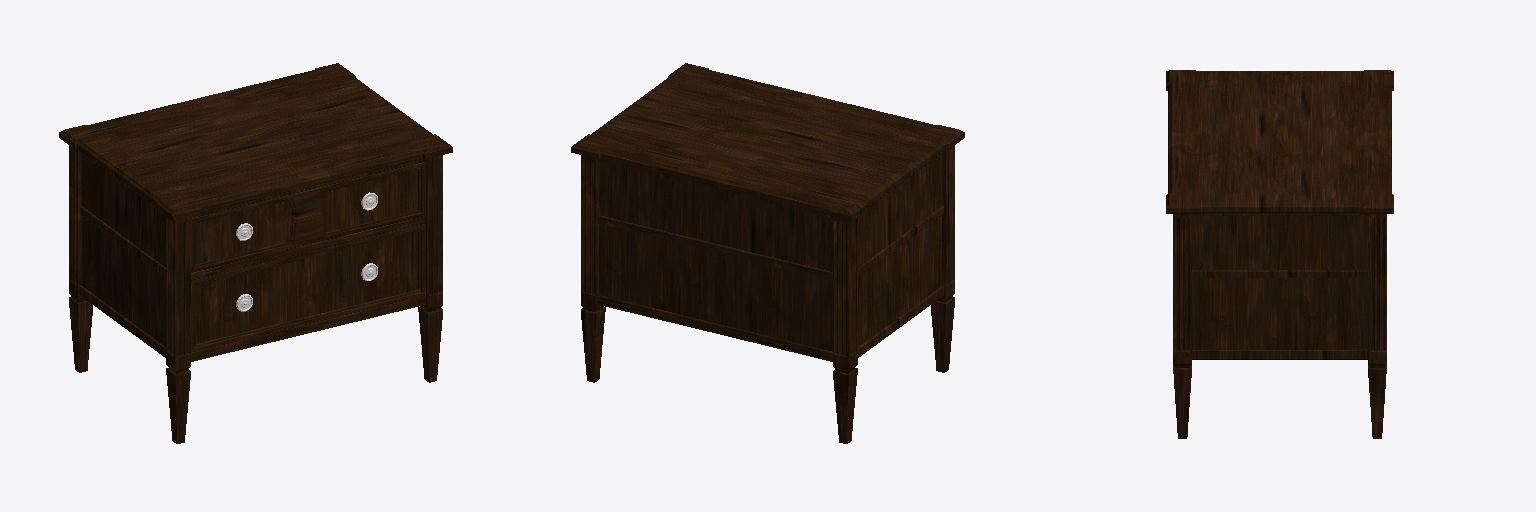
3 views of the same model, side by side, from view 1: azimuth 30°, elevation 25°; view 2: azimuth 150°, elevation 25°; view 3: azimuth 270°, elevation 25° (orthographic).
Size of the model in its own units: 0.84 by 0.6814 by 0.5904.
2 materials, 2 textured.